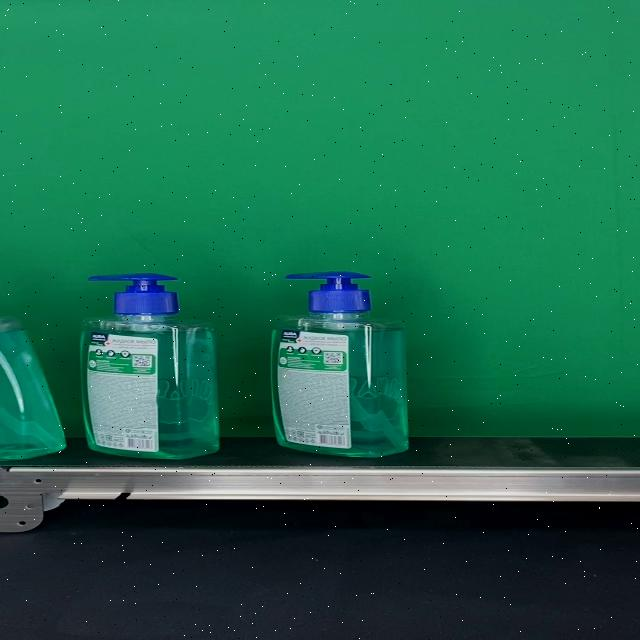Bottle: (80, 273, 220, 459), (271, 271, 408, 458)
Cap: (89, 273, 180, 316), (285, 271, 374, 312)
